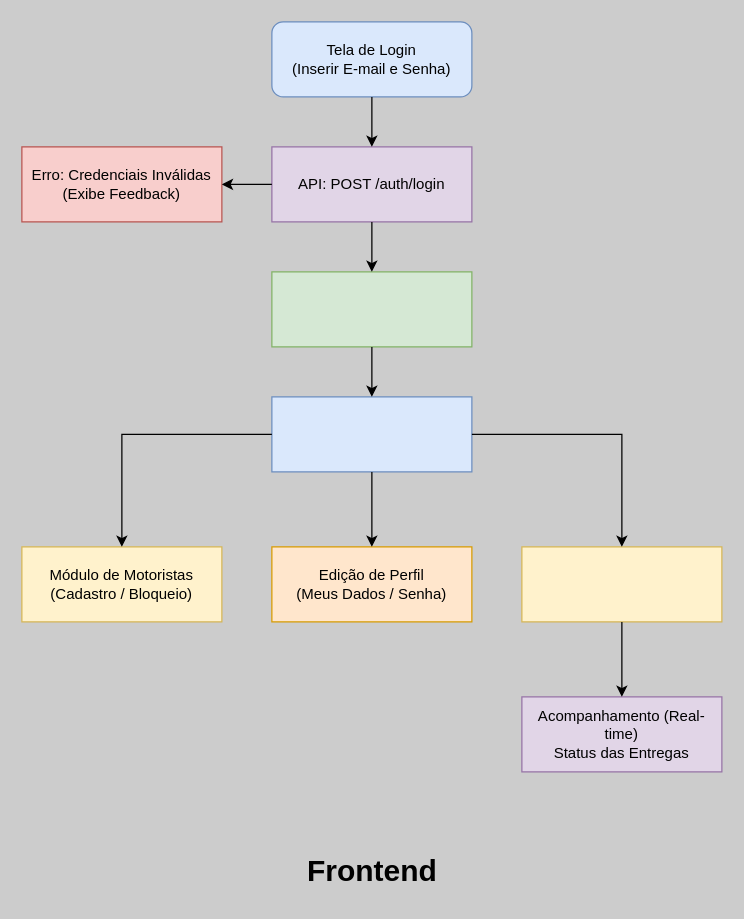
The diagram is 744 pixels wide and 919 high, and some of its shapes have lost their labels. The shapes that lost their labels are listed below. From the top down, each one's box as (x1, y1, x2, y2) in pixels, then its label:
(271, 271, 472, 347): Sucesso: Salva JWT no Local Storage / Context
(271, 396, 472, 472): Dashboard Principal (Visão Geral / Métricas)
(521, 546, 722, 622): Módulo de Entregas (Criar / Atribuir / Histórico)
